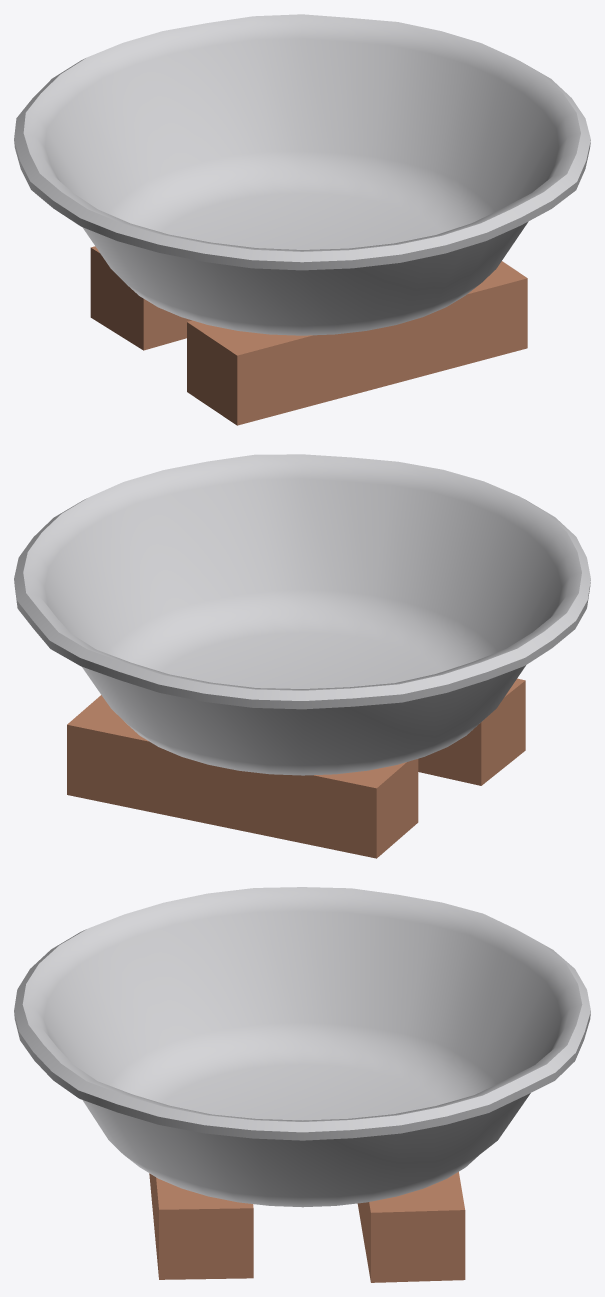
The model's file is bacia.glb.
3 renders of one model, top to bottom at view 1: azimuth 30°, elevation 25°; view 2: azimuth 150°, elevation 25°; view 3: azimuth 270°, elevation 25°, orthographic.
Parts seen in each view (by area): view 1: bacia; view 2: bacia; view 3: bacia.
Boxes of the visible parts, box(x1,y1,x2,y2) form: bacia: box(14, 14, 590, 425); bacia: box(14, 454, 590, 858); bacia: box(14, 887, 590, 1282).
Size of the model in its own units: 0.67 by 0.257 by 0.6713.
